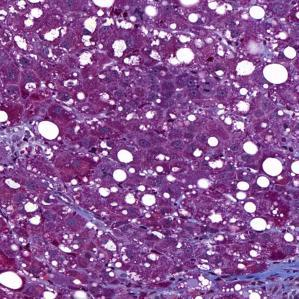fibrosis: (244, 257, 299, 296)
